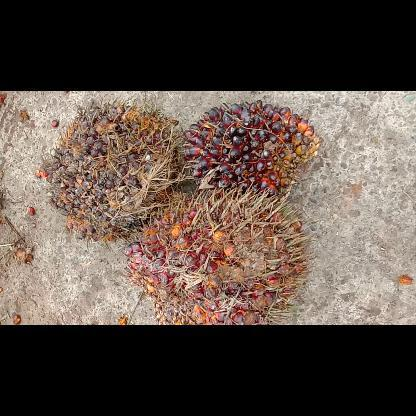Kurang masak: (40, 102, 182, 242), (184, 99, 322, 196)
TBS masak: (121, 188, 307, 324)
